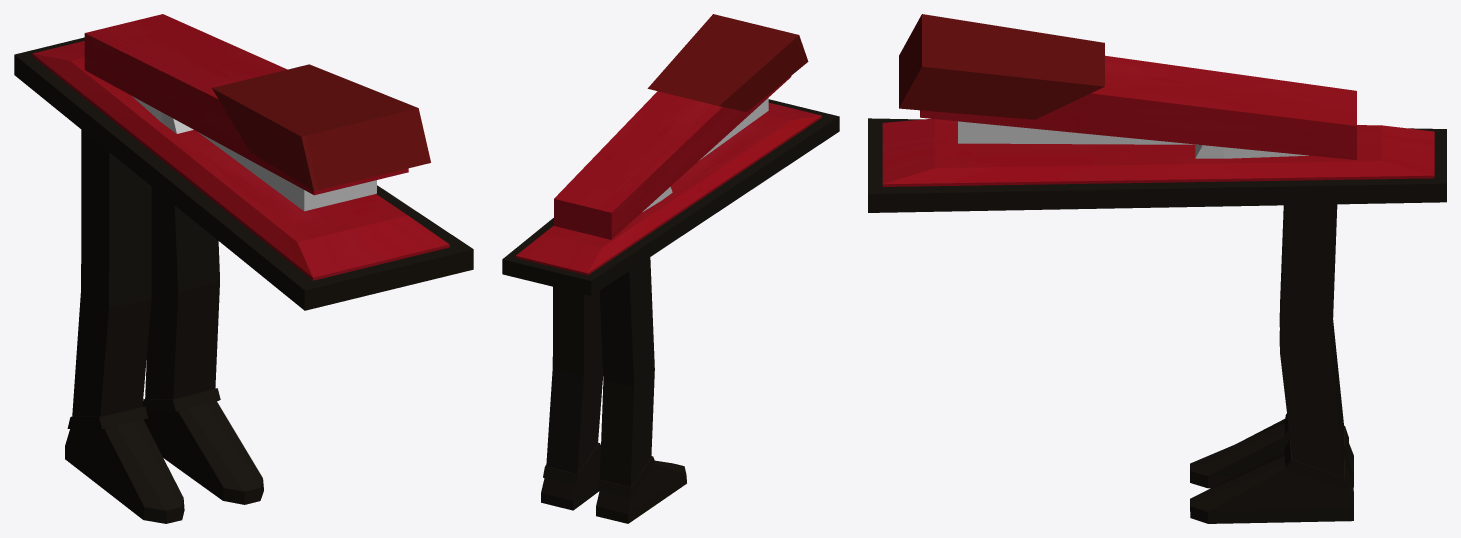
The model's file is StaplerEnemyLarge.fbx.
3 renders of one model, left to right at view 1: azimuth 30°, elevation 25°; view 2: azimuth 150°, elevation 25°; view 3: azimuth 270°, elevation 25°, orthographic. The views are drawn at different scales.
Visible parts, largest first — view 1: Cube.012, Cube.010, Cube.013, Cube.009, Cube.008, Cube.006, Cube.007; view 2: Cube.012, Cube.006, Cube.010, Cube.013, Cube.009, Cube.008, Cube.007; view 3: Cube.013, Cube.010, Cube.006, Cube.009, Cube.008, Cube.012, Cube.007, Cube.011.
Boxes of the visible parts, <box> form: Cube.012: <box>65,130,184,523</box>; Cube.010: <box>142,187,263,504</box>; Cube.013: <box>32,41,449,280</box>; Cube.009: <box>212,64,430,191</box>; Cube.008: <box>14,37,473,310</box>; Cube.006: <box>84,14,408,195</box>; Cube.007: <box>198,132,376,211</box>; Cube.012: <box>596,257,686,523</box>; Cube.006: <box>554,76,791,239</box>; Cube.010: <box>541,287,602,510</box>; Cube.013: <box>515,102,821,275</box>; Cube.009: <box>647,14,808,111</box>; Cube.008: <box>502,99,839,295</box>; Cube.007: <box>699,98,768,160</box>; Cube.013: <box>882,118,1434,186</box>; Cube.010: <box>1190,204,1353,523</box>; Cube.006: <box>920,55,1356,159</box>; Cube.009: <box>899,14,1104,119</box>; Cube.008: <box>868,118,1446,212</box>; Cube.012: <box>1190,205,1353,488</box>; Cube.007: <box>958,121,1198,144</box>; Cube.011: <box>1195,144,1308,158</box>.
Size of the model in its own units: 390 by 1095 by 1256.
